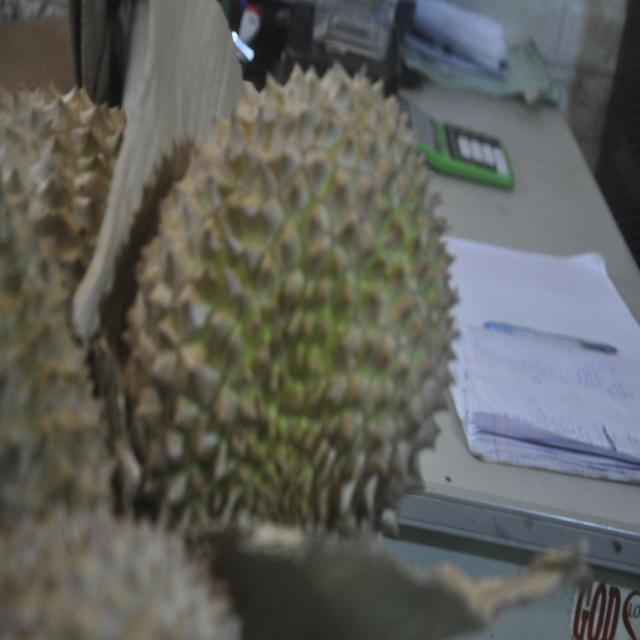mature: (116, 60, 464, 553)
